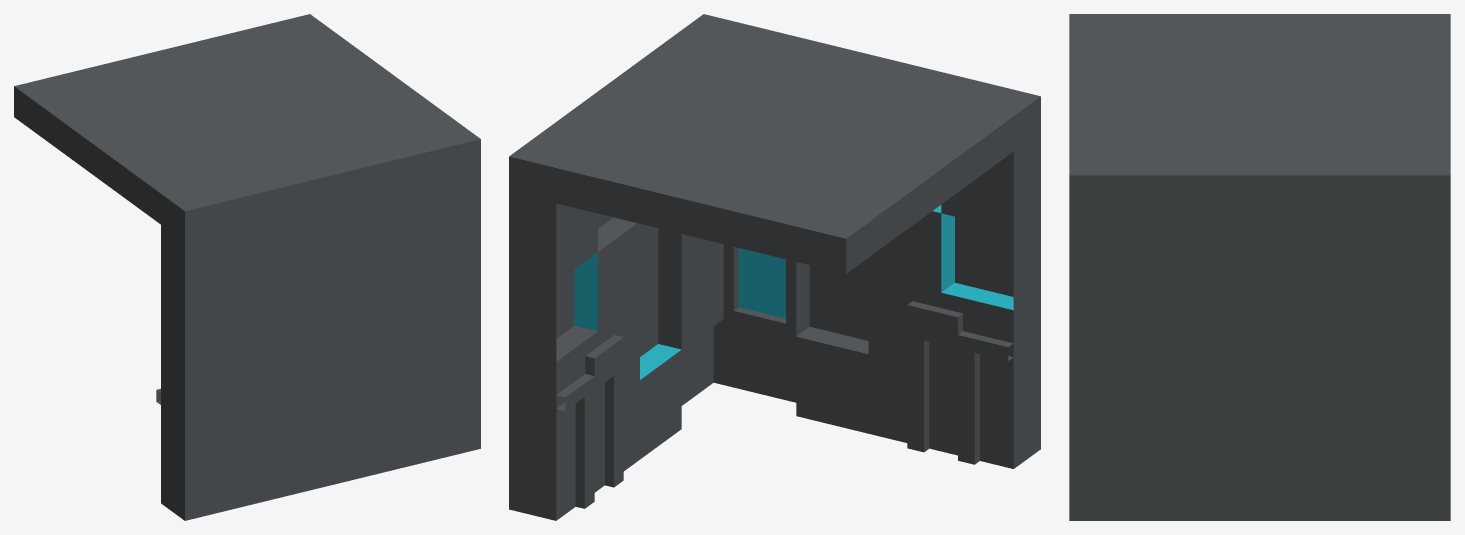
The model's file is EspacioContenidoEsquinaCierreInteriorAltoNS.gltf.
The picture shows the model from 3 angles, left to right: view 1: azimuth 30°, elevation 25°; view 2: azimuth 150°, elevation 25°; view 3: azimuth 270°, elevation 25°; orthographic projection. The views are drawn at different scales.
Visible parts, largest first — view 1: Cubo.11; view 2: Cubo.11; view 3: Cubo.11.
Boxes of the visible parts, x1,y1,x2,y2 form: Cubo.11: [14, 14, 480, 520]; Cubo.11: [509, 14, 1040, 520]; Cubo.11: [1069, 14, 1450, 520].
Size of the model in its own units: 2 by 2 by 2.
1 material, 1 textured.
